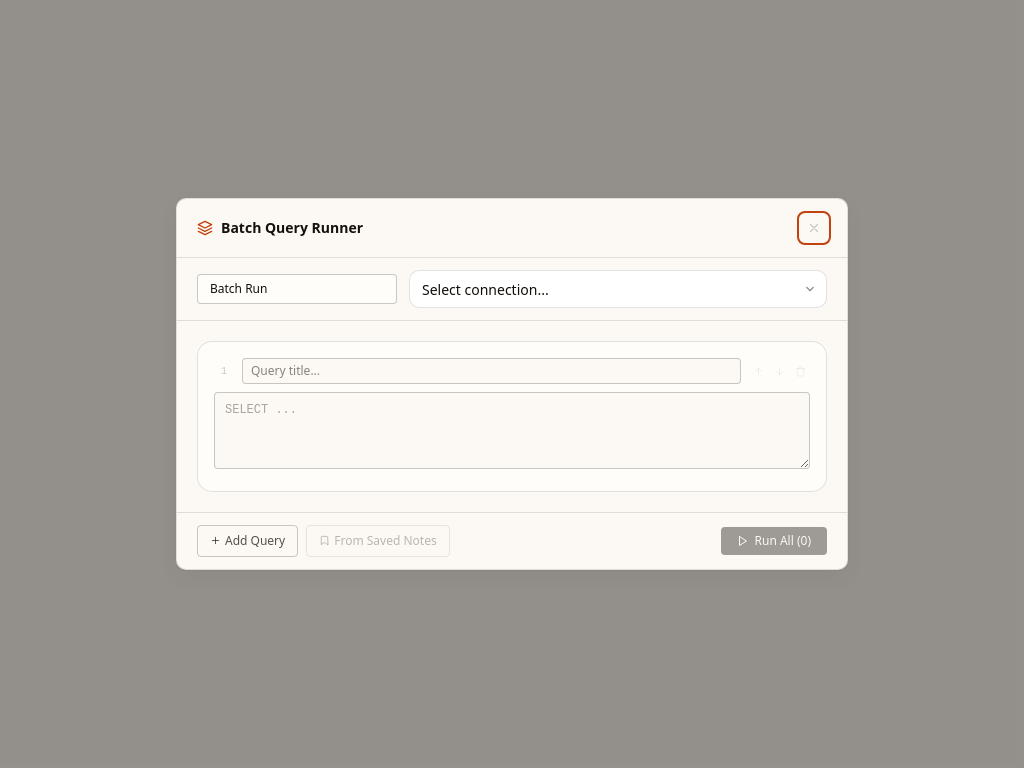
it: BatchRunner › Run All enabled after entering a query
Type "SELECT 1" into the text box with placeholder "SELECT ..." at (512, 431), box [214,392,810,469]
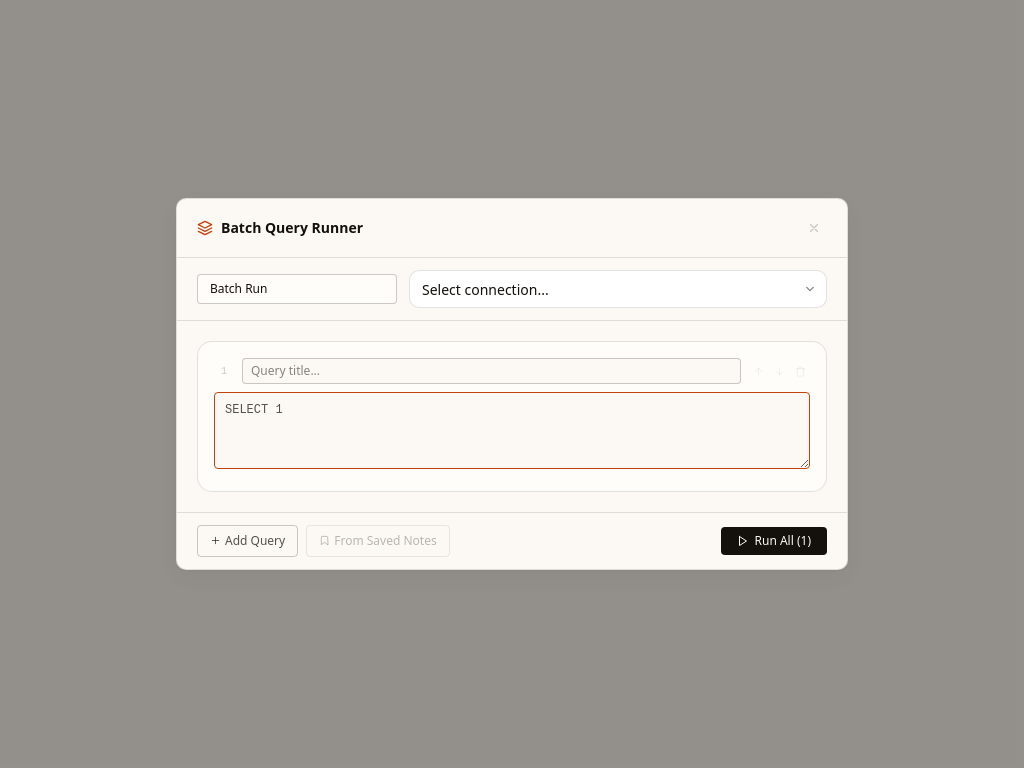
Expected: the button "Run All (1)" is shown, [720,527,827,555]
